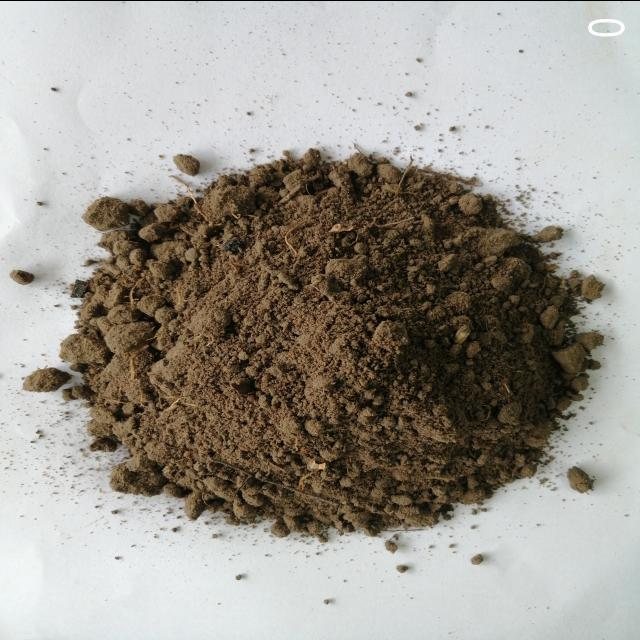soil: (140, 230, 520, 428)
